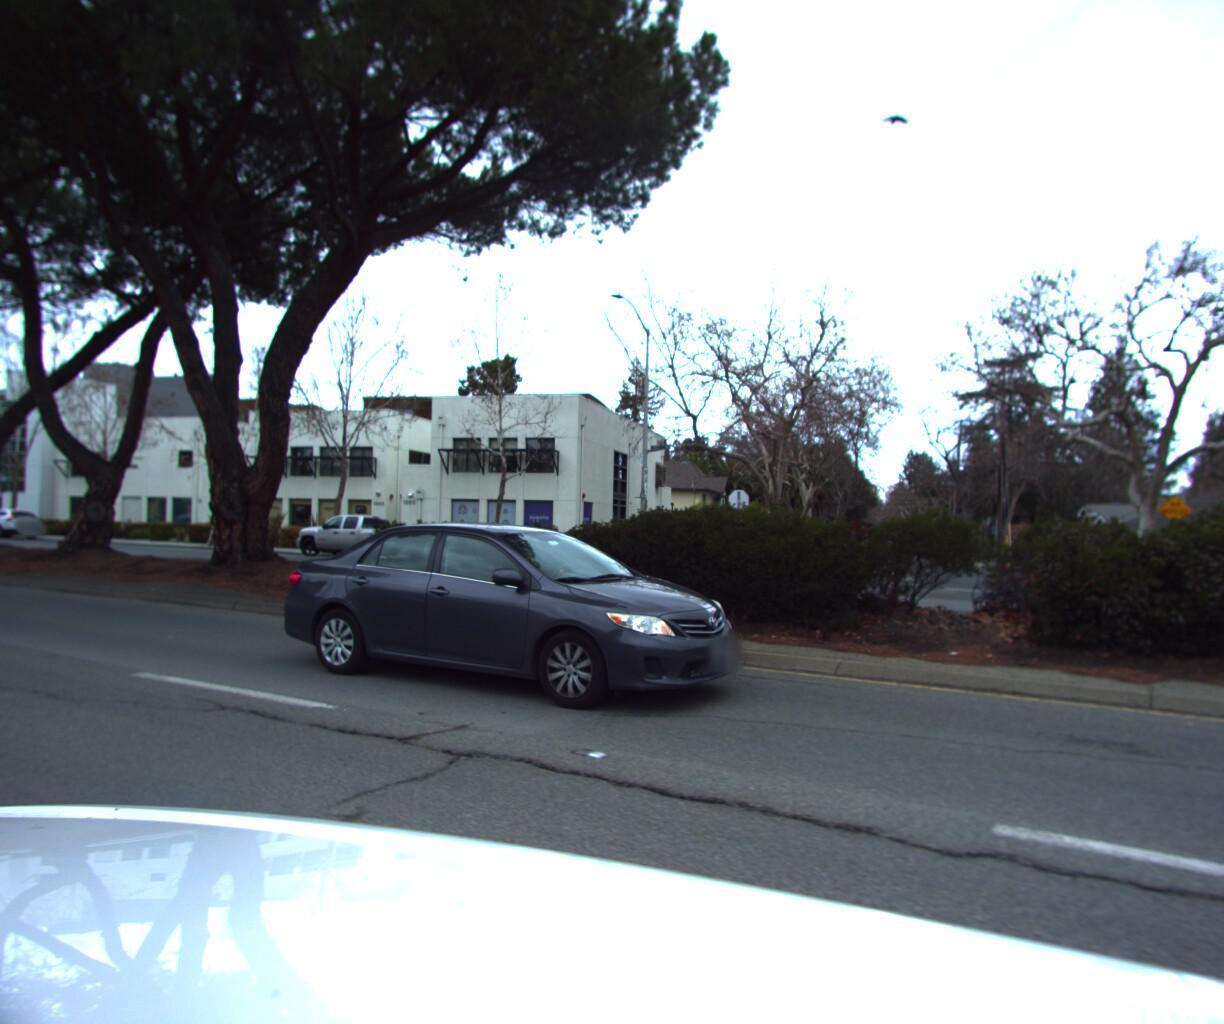car: (267, 515, 757, 720), (287, 515, 428, 566), (430, 527, 565, 573)
